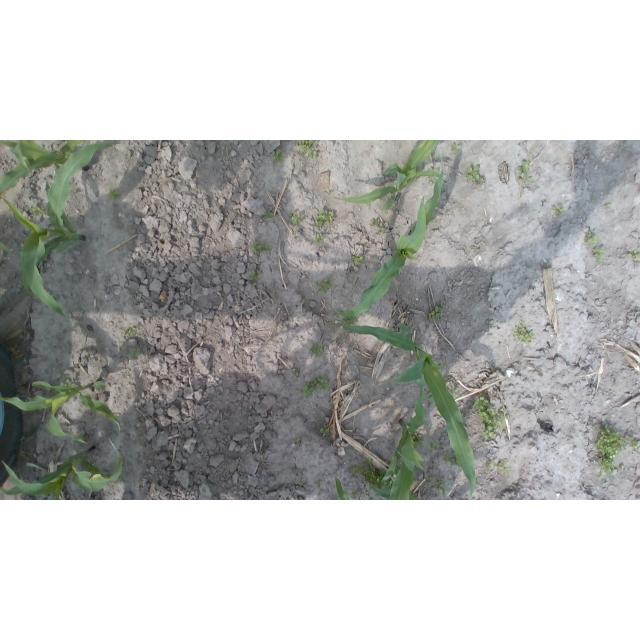Maize: (337, 318, 479, 499), (326, 169, 447, 320), (2, 178, 88, 318), (2, 142, 123, 231), (0, 376, 122, 444), (327, 141, 443, 204), (2, 442, 123, 499), (379, 378, 429, 499)
Weeds: (597, 420, 639, 481), (474, 392, 510, 445), (346, 458, 378, 487), (585, 225, 606, 266), (301, 375, 332, 399), (485, 458, 510, 479), (314, 208, 332, 229), (434, 477, 451, 497), (516, 323, 532, 344), (298, 142, 318, 158), (442, 452, 460, 469), (520, 158, 531, 183), (369, 217, 385, 233), (466, 166, 482, 182), (251, 240, 269, 253), (317, 278, 331, 294), (308, 343, 324, 357), (430, 304, 443, 320), (447, 380, 460, 396), (291, 212, 305, 226), (32, 203, 45, 217), (428, 438, 439, 453), (273, 146, 283, 162), (249, 267, 260, 281), (413, 432, 424, 446), (294, 477, 307, 488), (630, 250, 640, 263), (110, 189, 121, 200), (265, 210, 274, 221), (451, 144, 460, 155), (127, 329, 136, 340), (553, 206, 563, 215), (319, 428, 329, 437), (353, 254, 360, 266), (607, 202, 616, 211), (317, 233, 324, 243), (132, 352, 139, 361), (614, 378, 621, 387), (320, 482, 327, 489)
